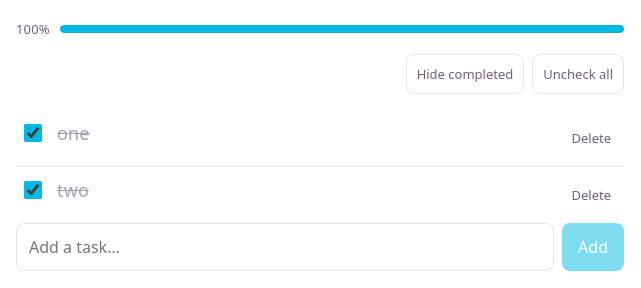
Scenario: TodoPage › uncheck all clears every completed item
The width and height of the screenshot is (641, 288).
Expected: the text "100%" is shown, [16,16,50,42]
Step 1. Click the button with test id "uncheck-all" → (578, 74), box [532,54,624,94]
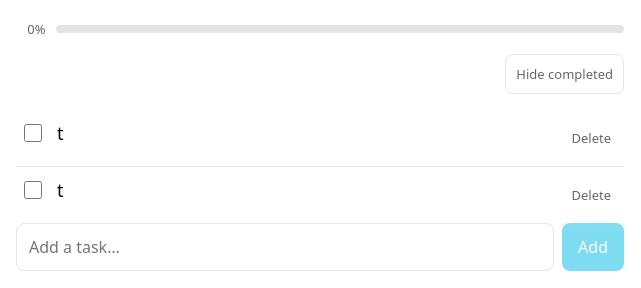
Expected: the text "0%" is shown, [27,20,46,38]
Expected: the button with test id "uncheck-all" is gone
